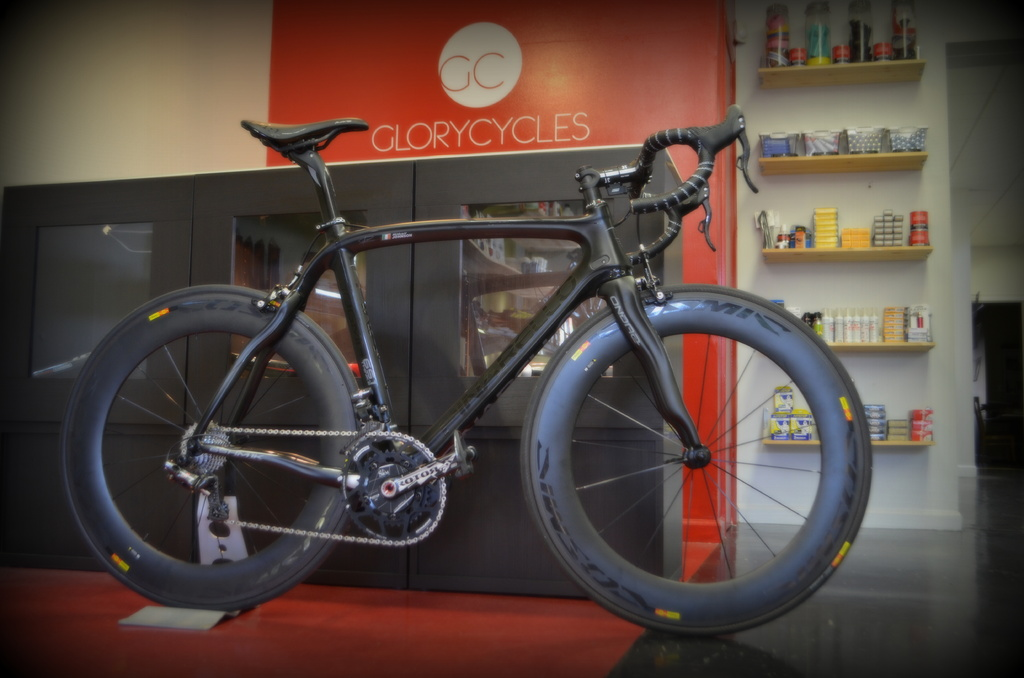Bike: (75, 140, 898, 676)
